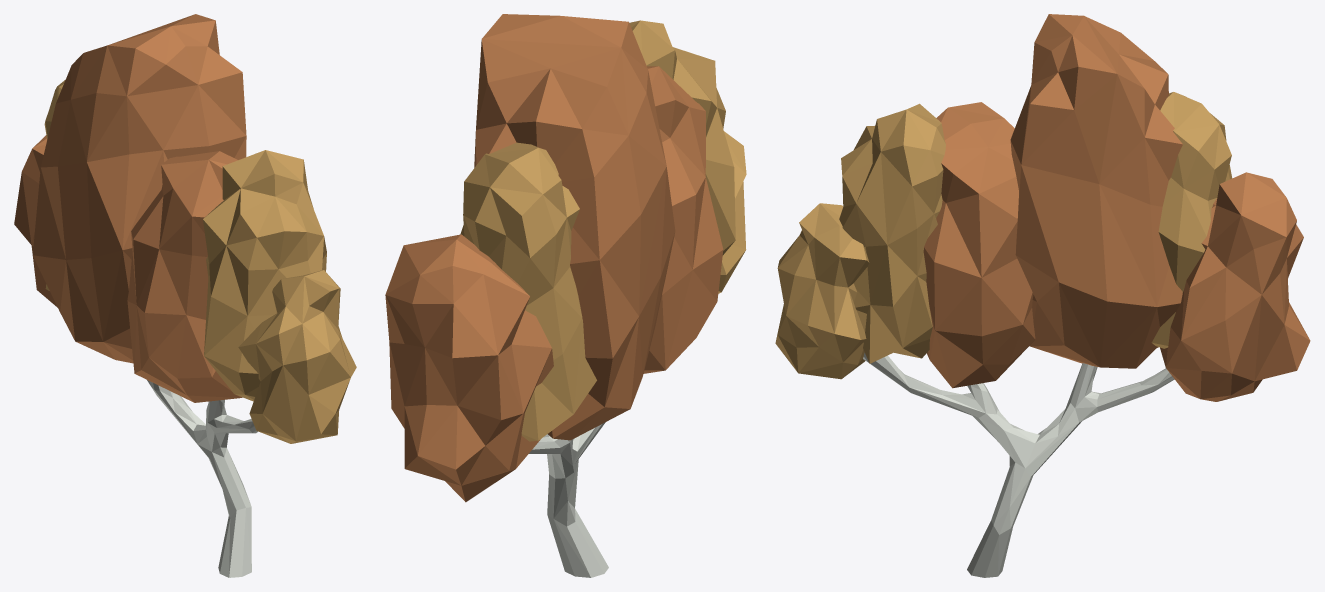
File: BirchTree_Autumn_4.lod1.glb
3 views of the same model, side by side, from view 1: azimuth 30°, elevation 25°; view 2: azimuth 150°, elevation 25°; view 3: azimuth 270°, elevation 25° (orthographic). The views are drawn at different scales.
Parts seen in each view (by area): view 1: BirchTree_Autumn_4; view 2: BirchTree_Autumn_4; view 3: BirchTree_Autumn_4.
Boxes of the visible parts, x1=… form: BirchTree_Autumn_4: x1=14, y1=14, x2=356, y2=577; BirchTree_Autumn_4: x1=385, y1=14, x2=746, y2=577; BirchTree_Autumn_4: x1=775, y1=14, x2=1310, y2=577.
Size of the model in its own units: 1.15 by 3.56 by 3.29.
